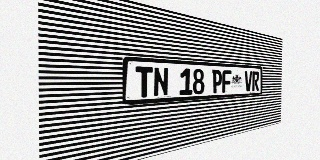1: (179, 68, 192, 95)
8: (193, 69, 204, 94)
F: (222, 70, 231, 93)
N: (153, 67, 169, 97)
P: (212, 69, 222, 93)
R: (252, 71, 259, 91)
T: (135, 66, 153, 98)
V: (244, 71, 252, 91)
